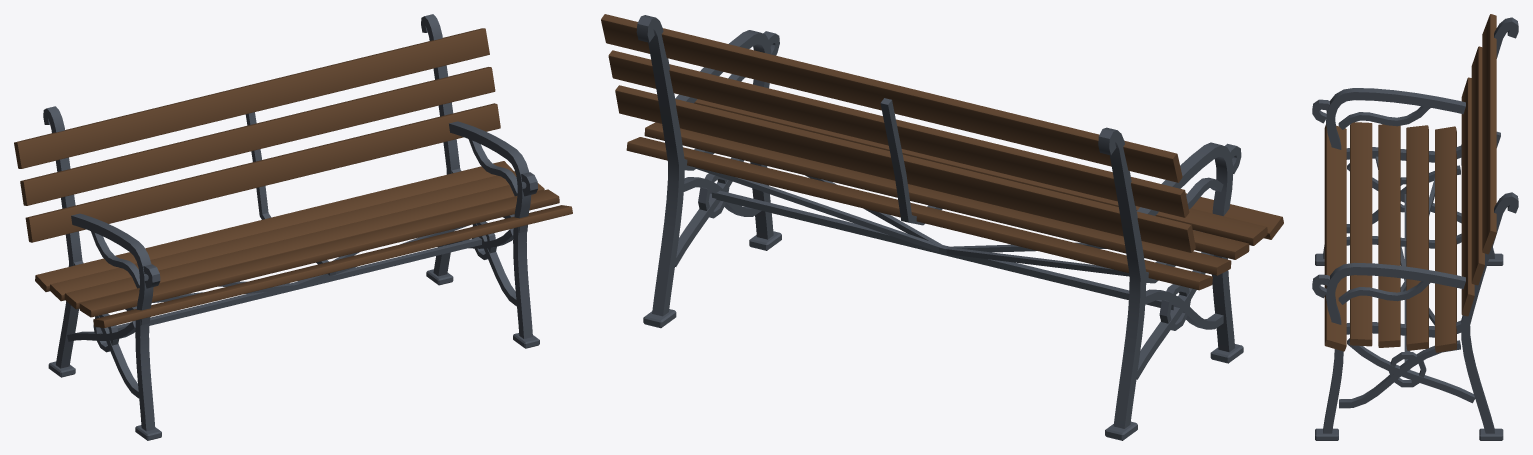
File: Bench.fbx
3 views of the same model, side by side, from view 1: azimuth 30°, elevation 25°; view 2: azimuth 150°, elevation 25°; view 3: azimuth 270°, elevation 25° (orthographic). The views are drawn at different scales.
Visible parts, largest first — view 1: Bench_Wood, Bench_Iron; view 2: Bench_Wood, Bench_Iron; view 3: Bench_Wood, Bench_Iron.
Boxes of the visible parts, left/top/right/bottom form: Bench_Wood: left=14, top=28, right=572, bottom=327; Bench_Iron: left=43, top=14, right=539, bottom=440; Bench_Wood: left=601, top=14, right=1283, bottom=290; Bench_Iron: left=636, top=15, right=1243, bottom=440; Bench_Wood: left=1324, top=14, right=1496, bottom=352; Bench_Iron: left=1312, top=17, right=1518, bottom=440.
Size of the model in its own units: 6 by 3.14 by 2.42.
